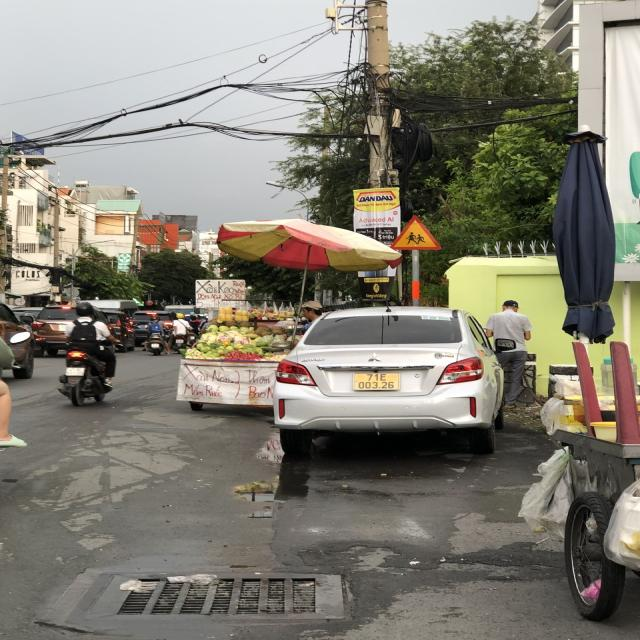Bien bao tre em: (386, 213, 447, 252)
